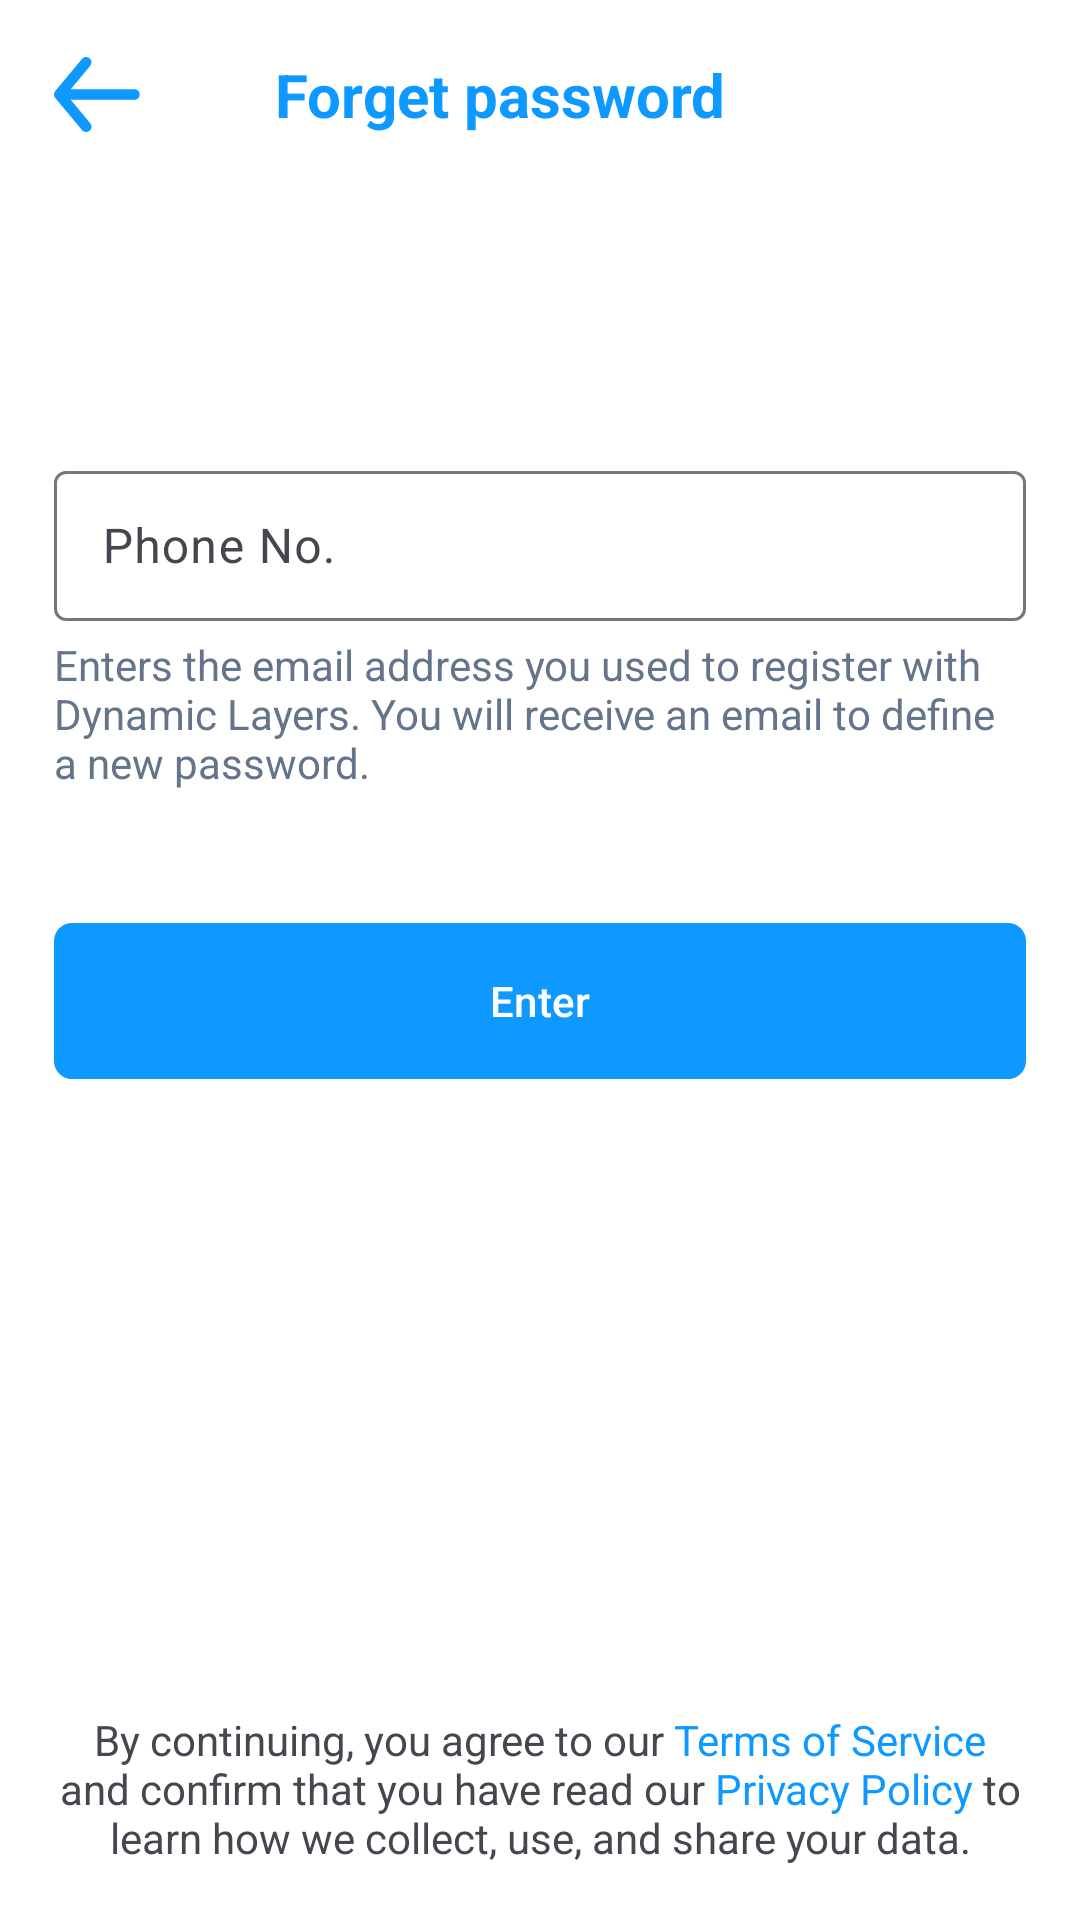

Icon click points for this 1080 × 1920 phone screenshot, format (x=x, y=y):
left arrow: (x=97, y=94)
